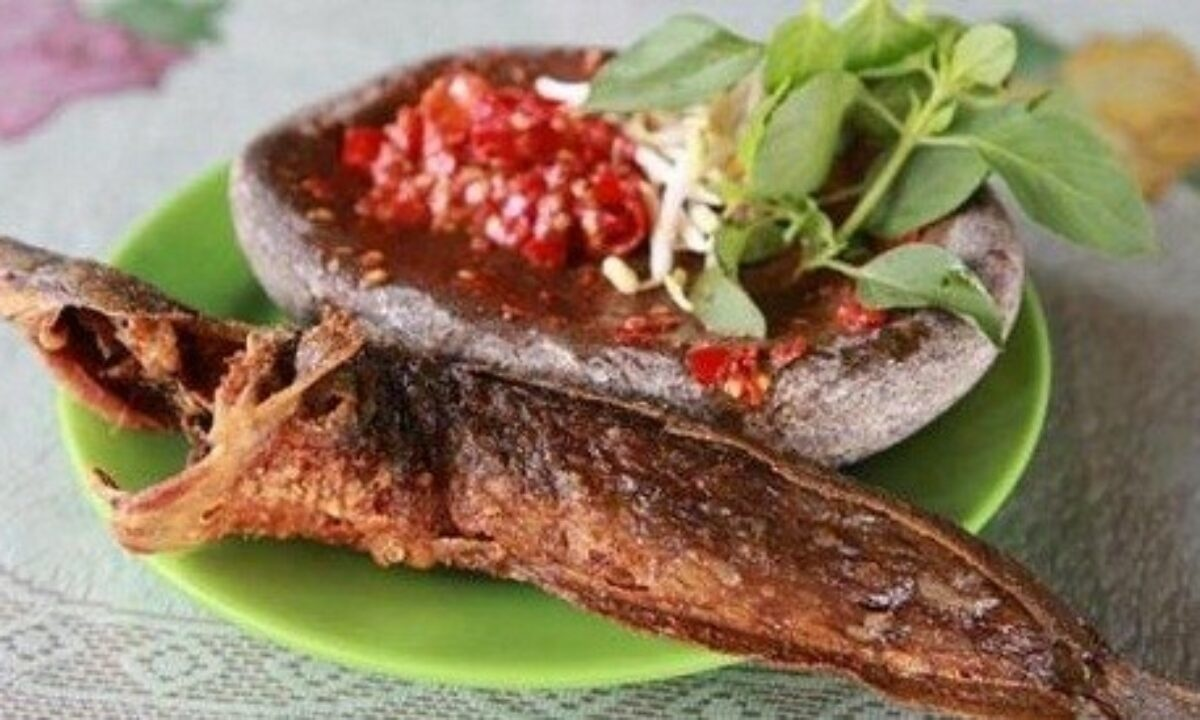pecel_lele: (3, 227, 1193, 720)
